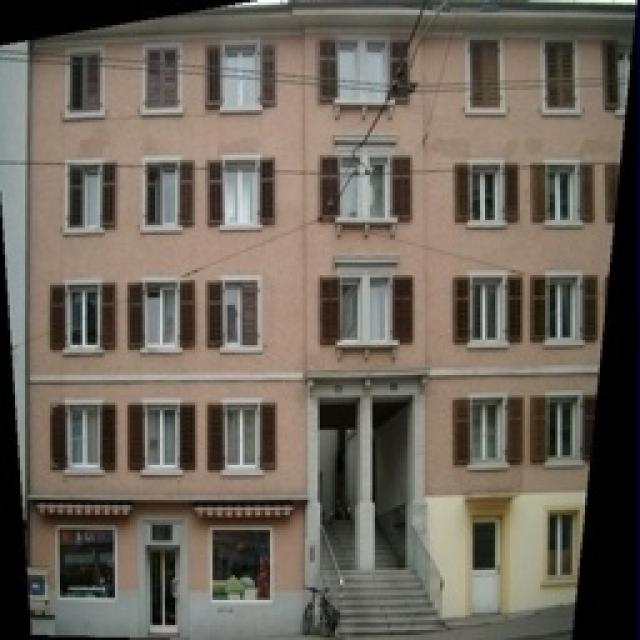building: (40, 5, 640, 640)
